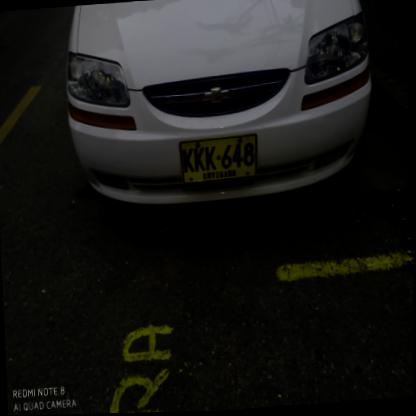placa: (175, 131, 260, 189)
